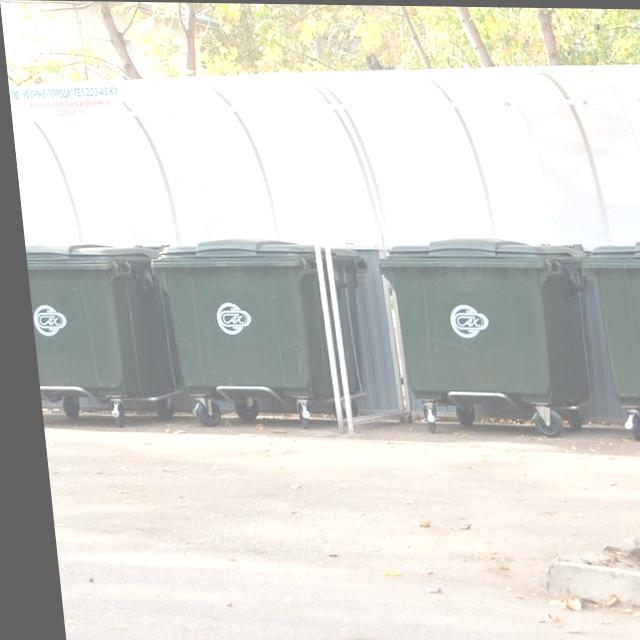Trash_Can_Closed: (143, 235, 376, 399), (372, 235, 598, 401), (20, 242, 171, 395), (575, 237, 640, 399)
